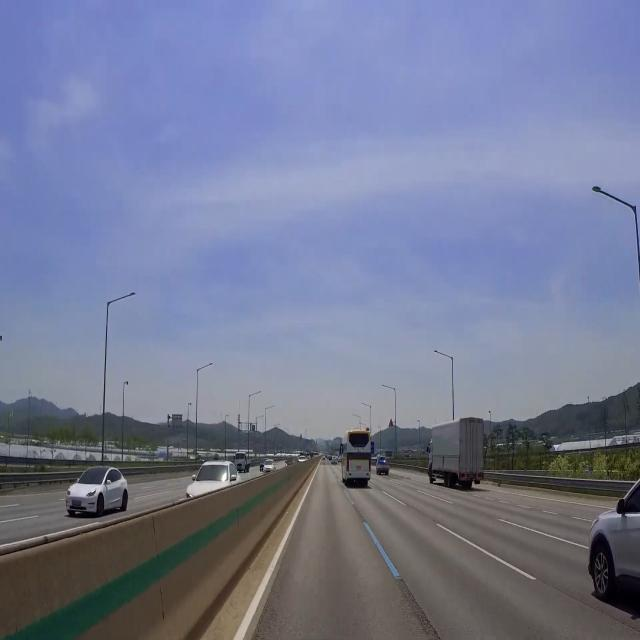car: (69, 494, 85, 515), (465, 470, 479, 483), (355, 464, 364, 477)
